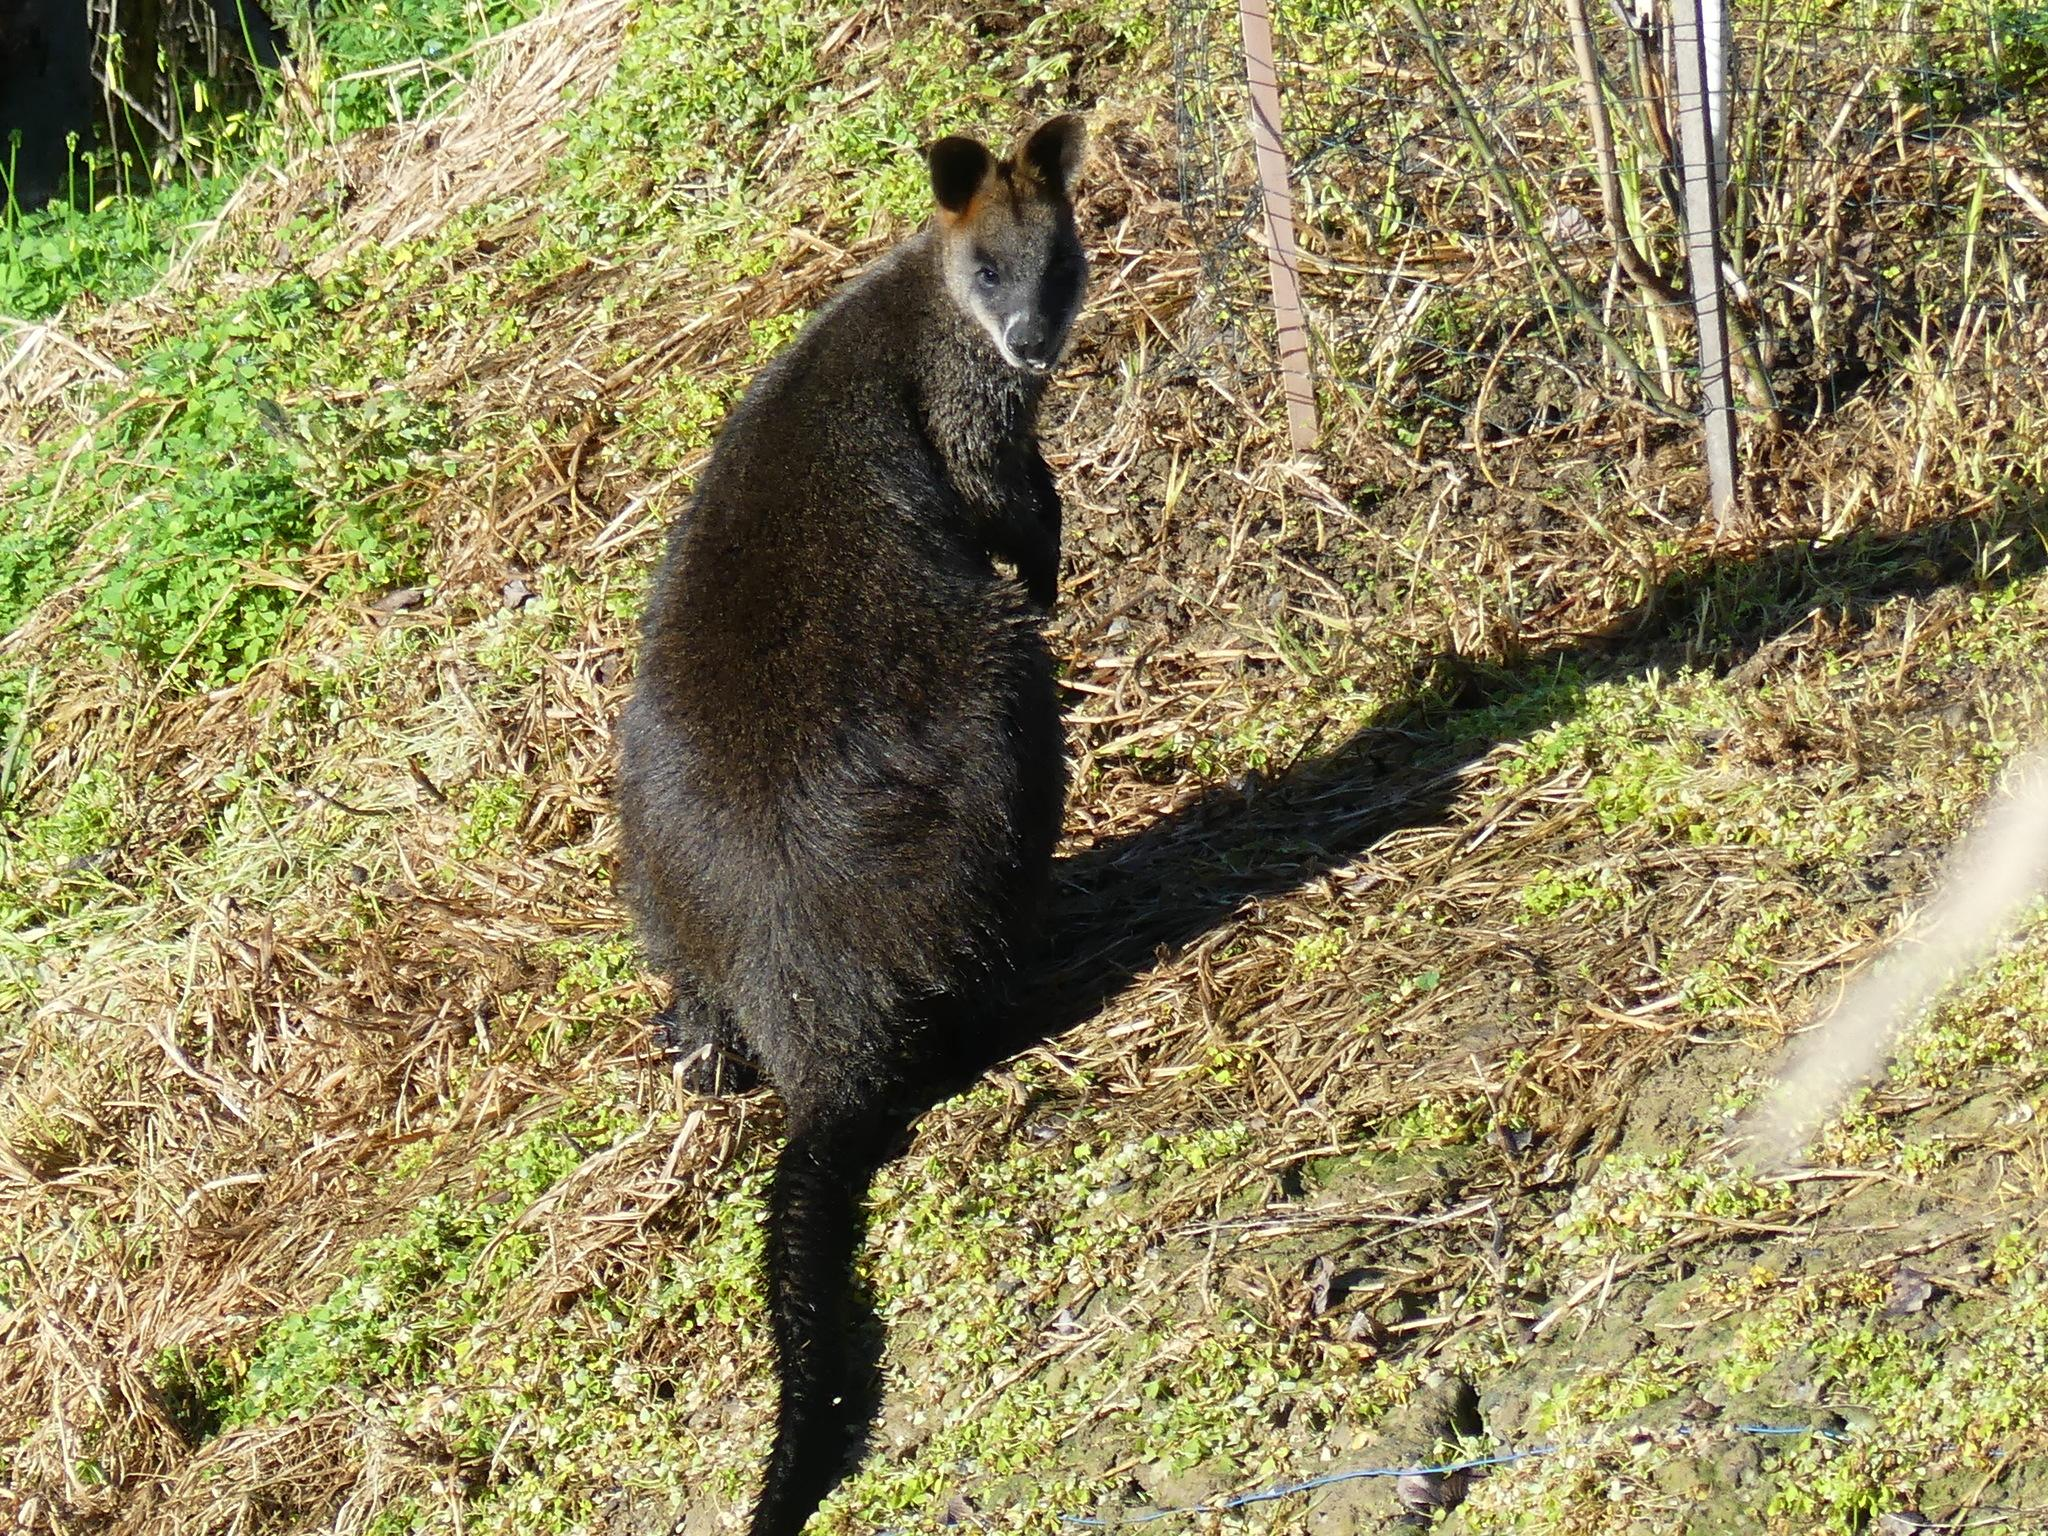Swamp wallaby: (510, 105, 1132, 1536)
